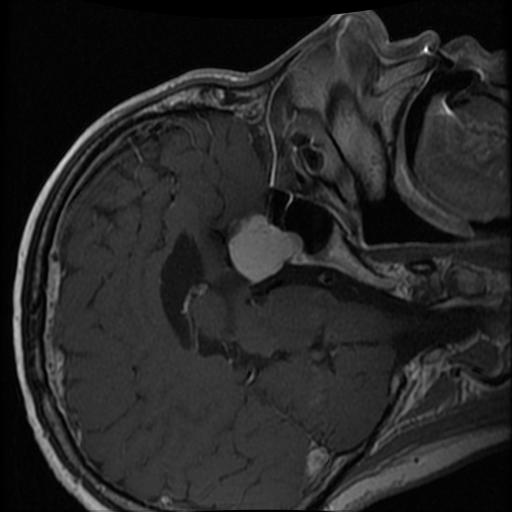meningioma: (227, 216, 302, 281)
